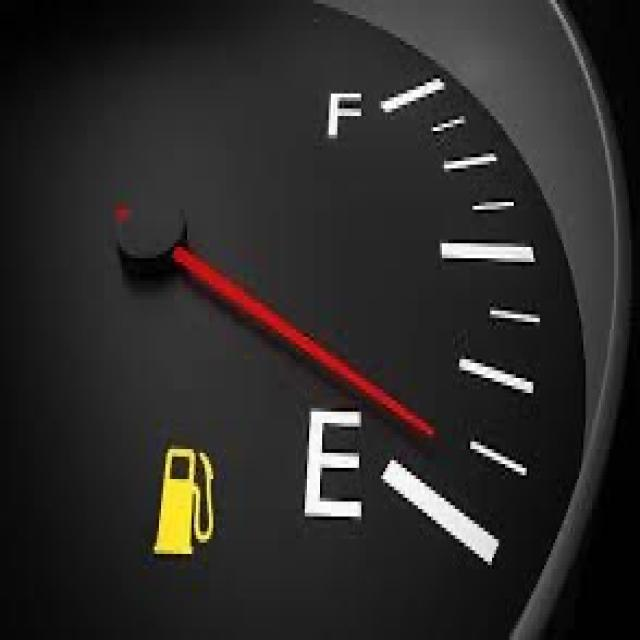kontrolka: (138, 422, 235, 572)
